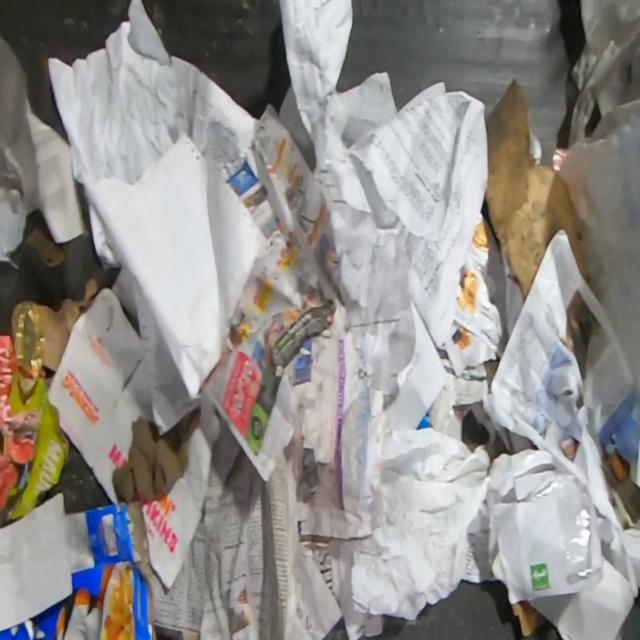cardboard: (484, 76, 591, 301), (47, 285, 154, 502), (0, 500, 157, 640), (140, 423, 214, 592), (4, 373, 70, 522), (40, 275, 99, 372), (23, 223, 66, 272), (510, 599, 548, 636)
metal: (10, 297, 46, 399)
soft_plastic: (560, 111, 640, 417), (568, 0, 640, 145), (0, 33, 41, 220)
